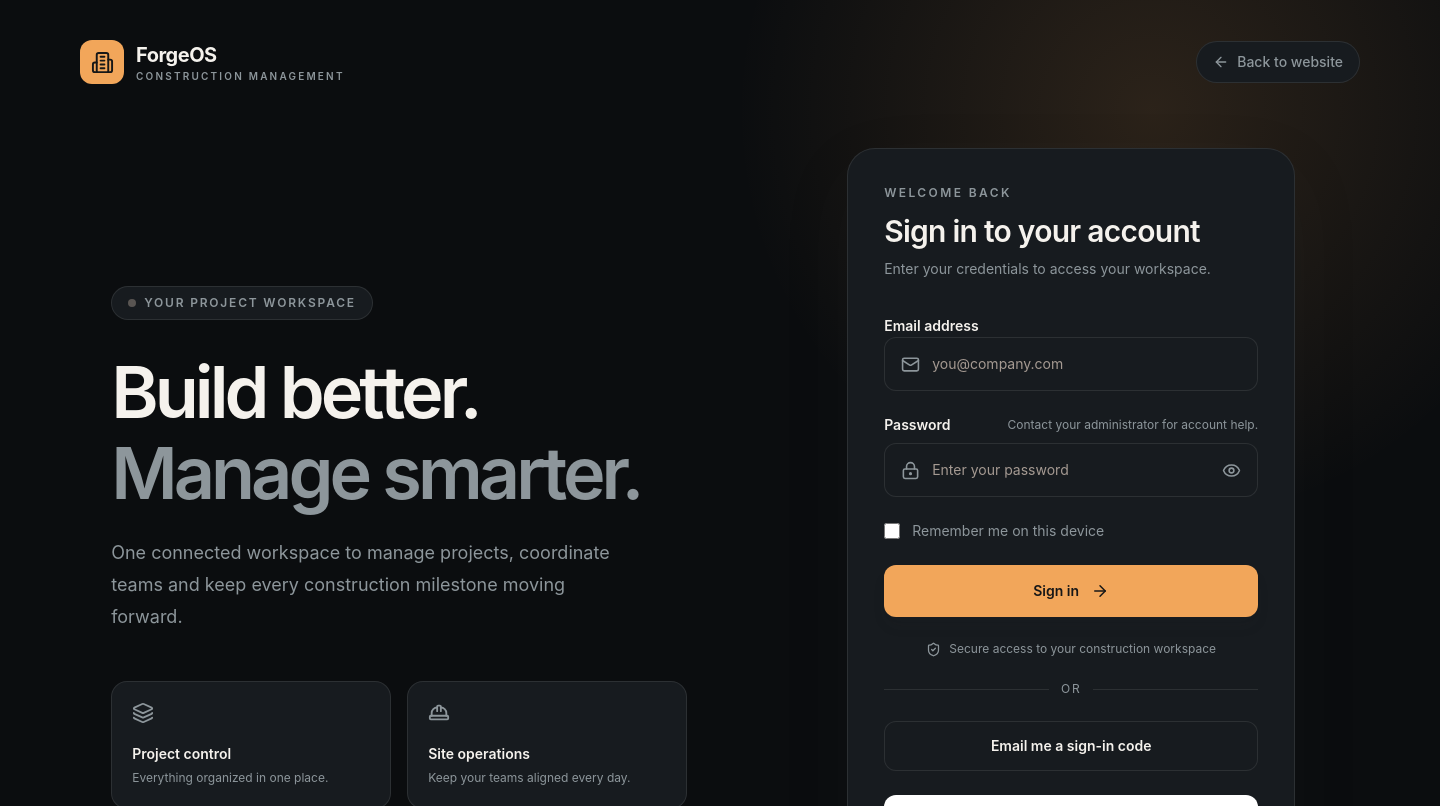
Test: LoginPage — OTP sign-in mode › requesting a code without an email shows an inline error
The width and height of the screenshot is (1440, 806).
Click the button "Email me a sign-in code". click: (1071, 746)
box: [884,721,1258,771]
(page scrolled)
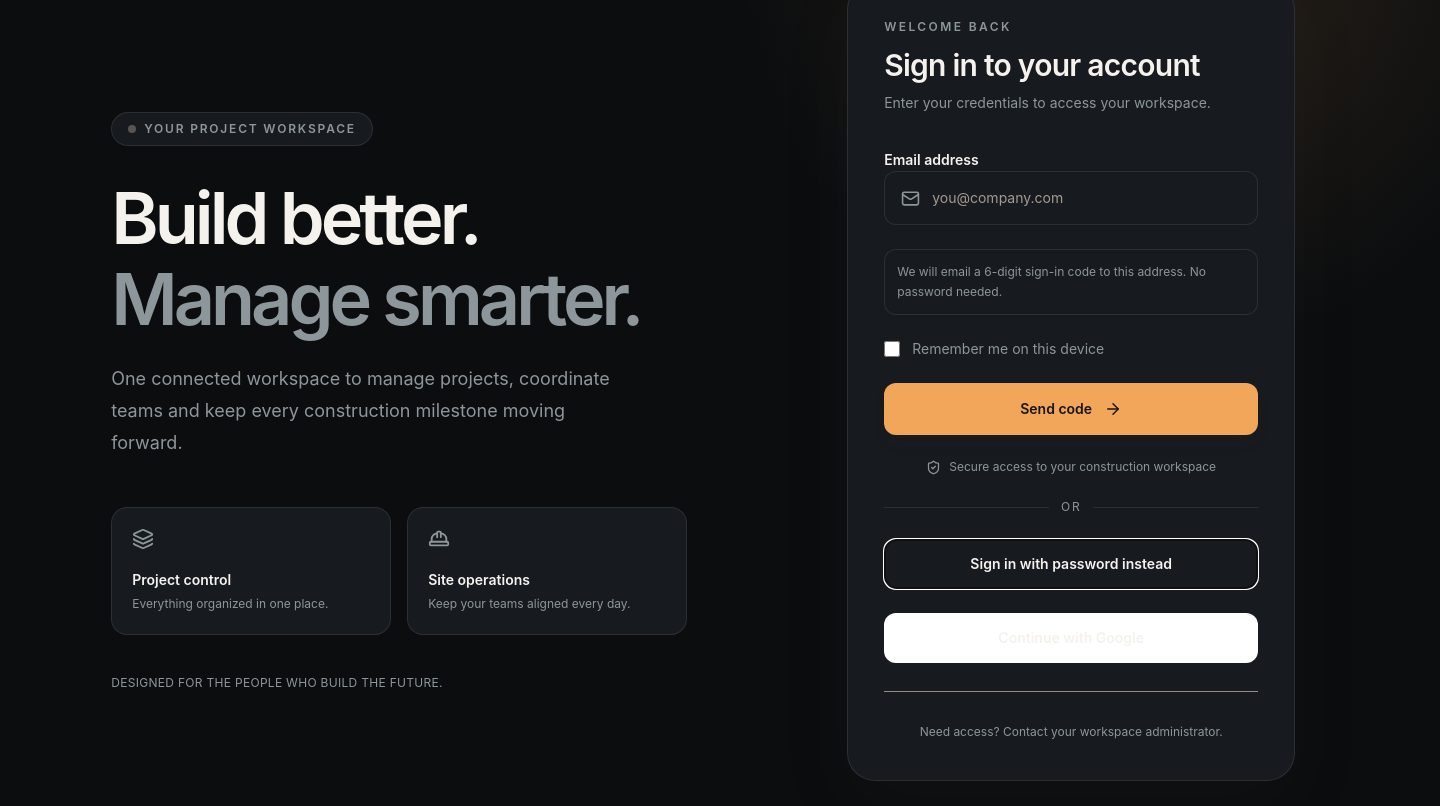
Now the form named "Send code" is shown
Submit the form named "Send code", box [884,147,1258,663]
(page scrolled)
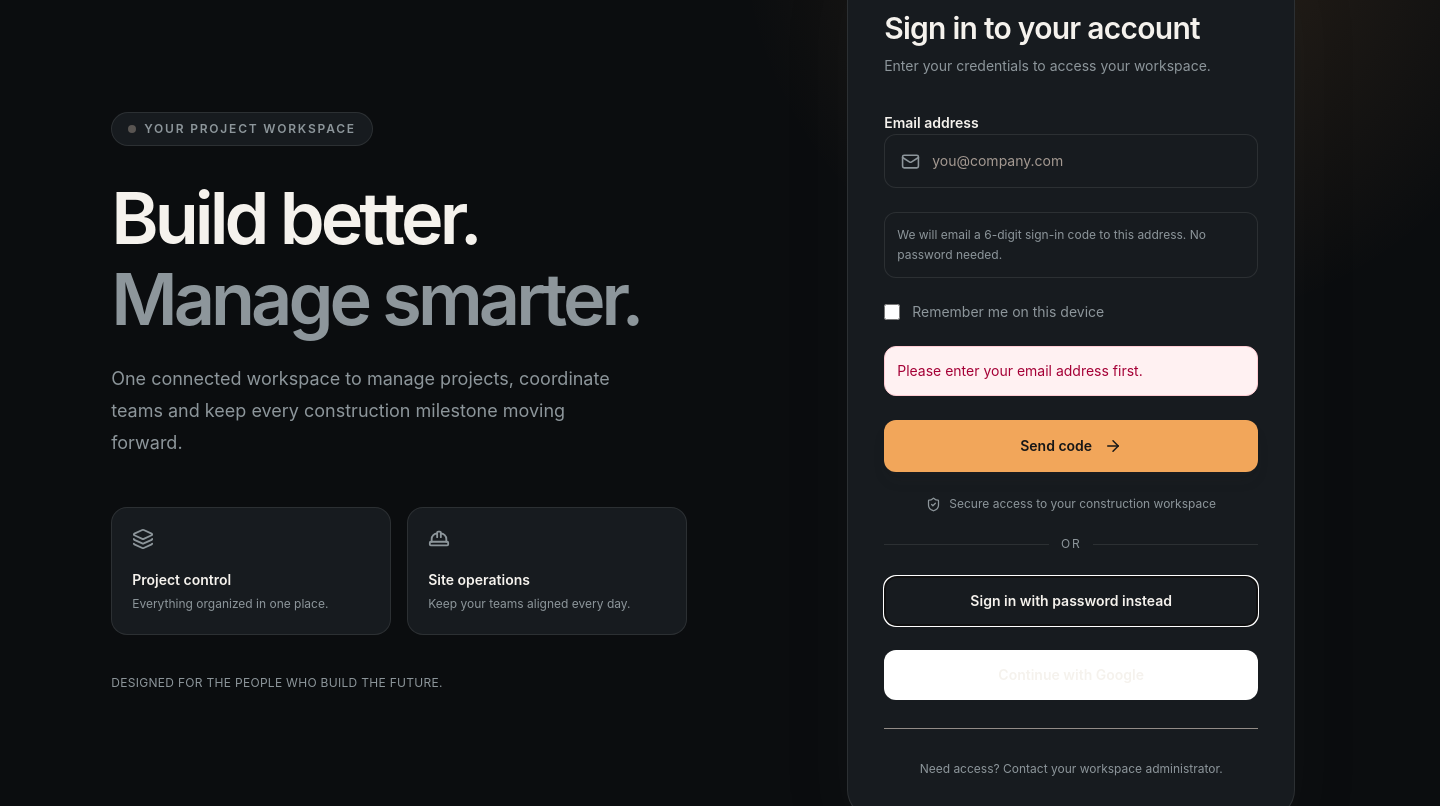
Now the message reads "Please enter your email address first.", box [897,362,1143,379]
